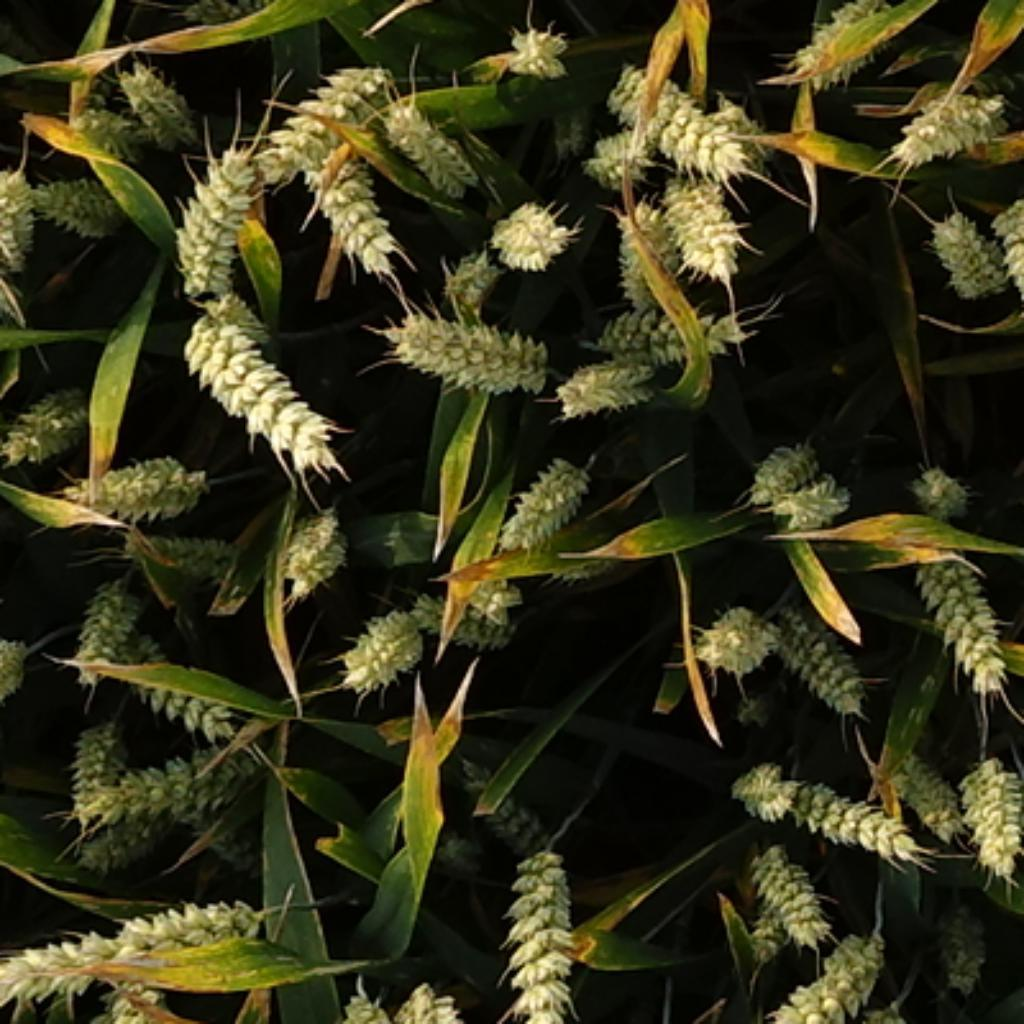0-0: (163, 307, 343, 491), (2, 898, 281, 1003), (76, 734, 291, 852), (248, 46, 389, 192), (481, 832, 588, 1024), (908, 540, 1021, 686), (624, 58, 765, 174), (166, 133, 268, 291), (92, 645, 266, 737), (381, 299, 552, 391), (752, 583, 870, 711), (302, 143, 407, 276), (777, 779, 923, 871), (762, 922, 893, 1024), (583, 294, 755, 370), (552, 337, 693, 424), (889, 69, 1017, 163), (64, 440, 212, 519), (491, 442, 599, 547), (401, 581, 537, 663), (64, 796, 204, 875), (166, 775, 276, 875), (455, 747, 550, 857), (336, 593, 438, 695), (381, 92, 481, 194), (791, 0, 911, 84), (2, 366, 102, 463), (742, 834, 829, 944), (660, 168, 747, 273), (71, 565, 158, 665), (110, 51, 202, 143), (706, 87, 788, 189), (66, 706, 135, 819), (962, 767, 1024, 892), (688, 591, 780, 673), (926, 199, 1003, 296), (611, 194, 678, 302), (271, 510, 350, 600), (742, 432, 829, 512), (30, 161, 128, 232), (762, 471, 865, 537), (133, 519, 240, 578), (926, 901, 993, 995), (888, 761, 960, 846), (492, 199, 574, 273), (988, 186, 1024, 348), (586, 122, 660, 192), (458, 558, 529, 627), (726, 758, 798, 822), (494, 12, 568, 74), (64, 89, 138, 151), (97, 970, 179, 1024), (903, 450, 972, 514), (742, 898, 798, 975), (547, 104, 604, 179), (2, 158, 38, 276), (197, 286, 266, 345), (440, 243, 504, 304), (330, 967, 394, 1024), (404, 965, 465, 1024), (552, 542, 629, 588), (2, 632, 43, 701), (175, 0, 282, 24)
